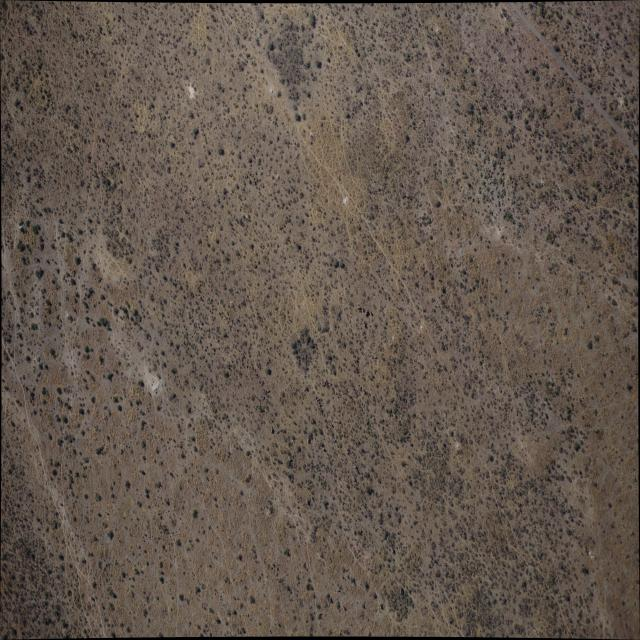elephant: (270, 426, 273, 434), (390, 548, 394, 554), (320, 446, 325, 450), (353, 357, 358, 361), (399, 588, 402, 594), (362, 388, 365, 394), (378, 604, 382, 608), (392, 413, 396, 417), (356, 306, 361, 309), (369, 310, 372, 315), (311, 418, 314, 423), (352, 476, 355, 481), (292, 391, 295, 396), (242, 352, 245, 357), (306, 497, 308, 504), (365, 310, 367, 316), (363, 321, 365, 327), (318, 405, 321, 409), (288, 456, 291, 460), (353, 464, 356, 468), (342, 606, 345, 610), (381, 417, 384, 421), (307, 438, 309, 443), (258, 379, 260, 384), (354, 530, 356, 535), (329, 597, 331, 602), (307, 499, 310, 502), (392, 599, 395, 602), (330, 422, 332, 426), (333, 438, 335, 442), (241, 357, 243, 361), (246, 364, 248, 368), (265, 389, 267, 393), (256, 374, 258, 378), (318, 613, 322, 615), (316, 399, 319, 401), (317, 402, 319, 405), (338, 420, 340, 423), (298, 395, 300, 398), (242, 362, 245, 364), (267, 391, 270, 393), (254, 368, 256, 371), (336, 589, 339, 591), (374, 356, 377, 358), (362, 307, 363, 312), (326, 383, 328, 385), (311, 496, 312, 500), (322, 393, 324, 395), (242, 362, 243, 366), (246, 360, 248, 362), (264, 393, 266, 395), (361, 530, 362, 534), (339, 632, 340, 636), (320, 385, 323, 386), (324, 381, 325, 384), (301, 402, 303, 403), (324, 383, 324, 388), (326, 380, 326, 383)
